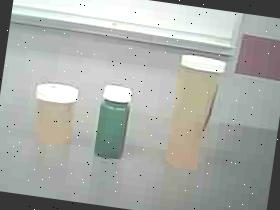Bottle A: (160, 47, 224, 178)
Bottle B: (25, 74, 85, 152)
Bottle C: (90, 80, 138, 168)
